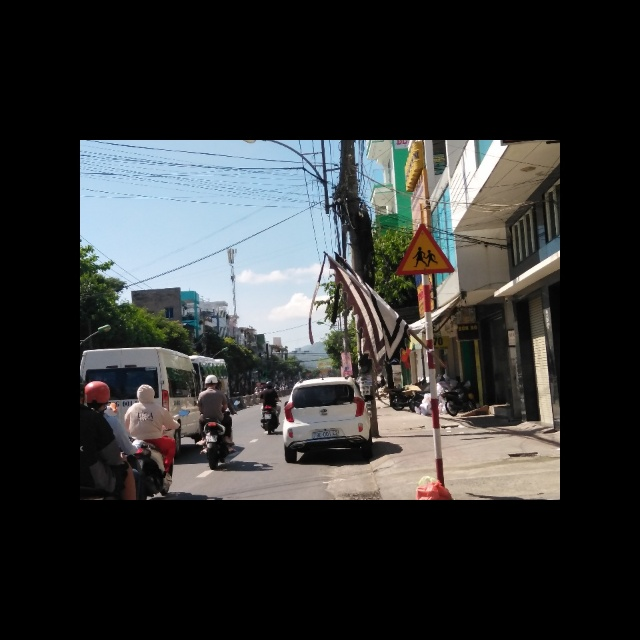Trẻ em ngang qua: (391, 222, 455, 277)
